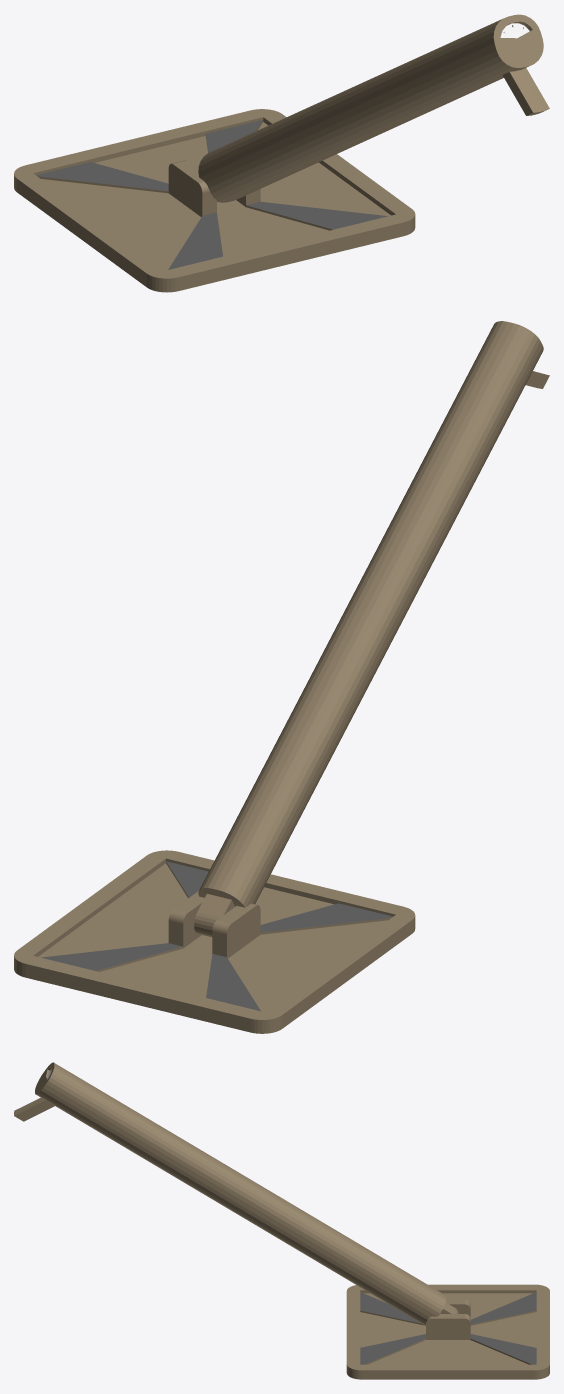
The model's file is demayquet3.0.fbx.
3 renders of one model, top to bottom at view 1: azimuth 30°, elevation 25°; view 2: azimuth 150°, elevation 25°; view 3: azimuth 270°, elevation 25°, orthographic. The views are drawn at different scales.
Parts seen in each view (by area): view 1: de, than; view 2: de, than; view 3: than, de.
Part boxes in pixels (left/top/right/bottom): de: left=14, top=109, right=415, bottom=292; than: left=198, top=14, right=549, bottom=202; de: left=14, top=850, right=415, bottom=1033; than: left=194, top=321, right=549, bottom=937; than: left=14, top=1062, right=458, bottom=1325; de: left=346, top=1284, right=549, bottom=1379.
Bounding box in the file's own units: 200 × 295 × 528.
Materials: 3 (1 with a texture image).
